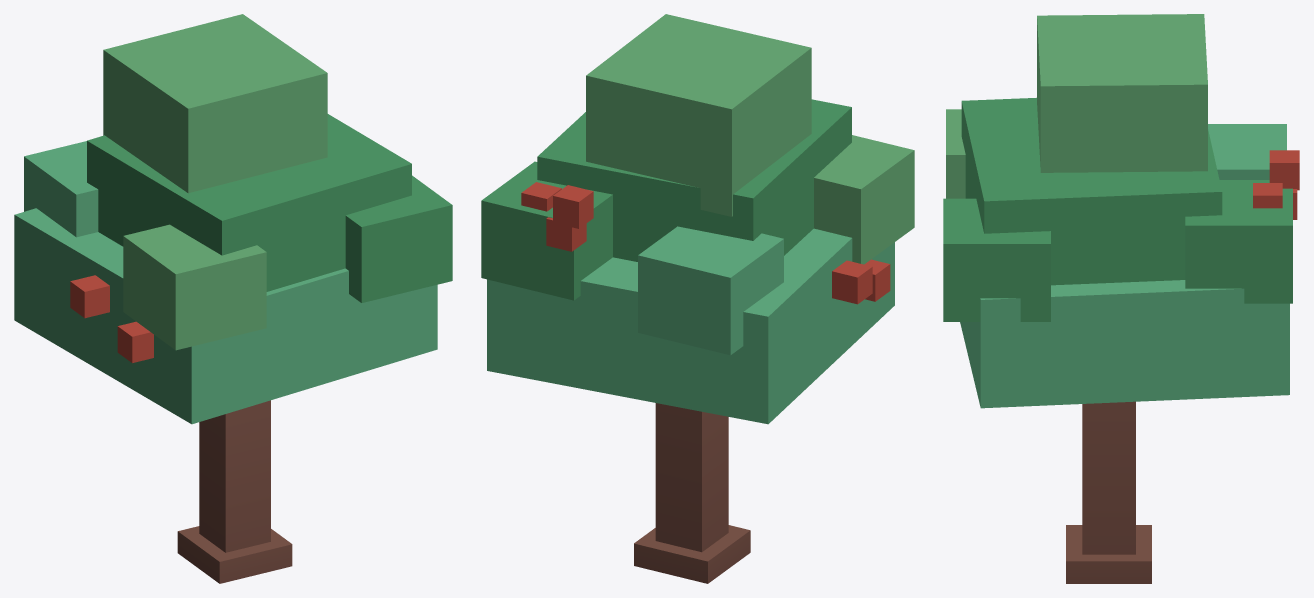
Rendered from fruit-tree.glb.
The picture shows the model from 3 angles, left to right: view 1: azimuth 30°, elevation 25°; view 2: azimuth 150°, elevation 25°; view 3: azimuth 270°, elevation 25°; orthographic projection. The views are drawn at different scales.
Parts seen in each view (by area): view 1: fruit-tree_body; view 2: fruit-tree_body; view 3: fruit-tree_body.
Part boxes in pixels (<box>): fruit-tree_body: <box>14,14,452,583</box>; fruit-tree_body: <box>481,14,914,583</box>; fruit-tree_body: <box>943,14,1299,583</box>.
Bounding box in the file's own units: 3.61 × 5.64 × 3.57.
